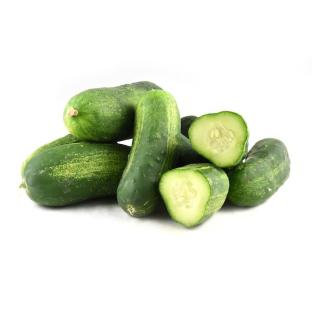Cucumber: (118, 90, 181, 216), (21, 142, 130, 206), (64, 82, 160, 141), (160, 164, 228, 226), (228, 139, 290, 205), (189, 112, 249, 167), (21, 135, 81, 172), (177, 134, 209, 166), (181, 116, 197, 138)
